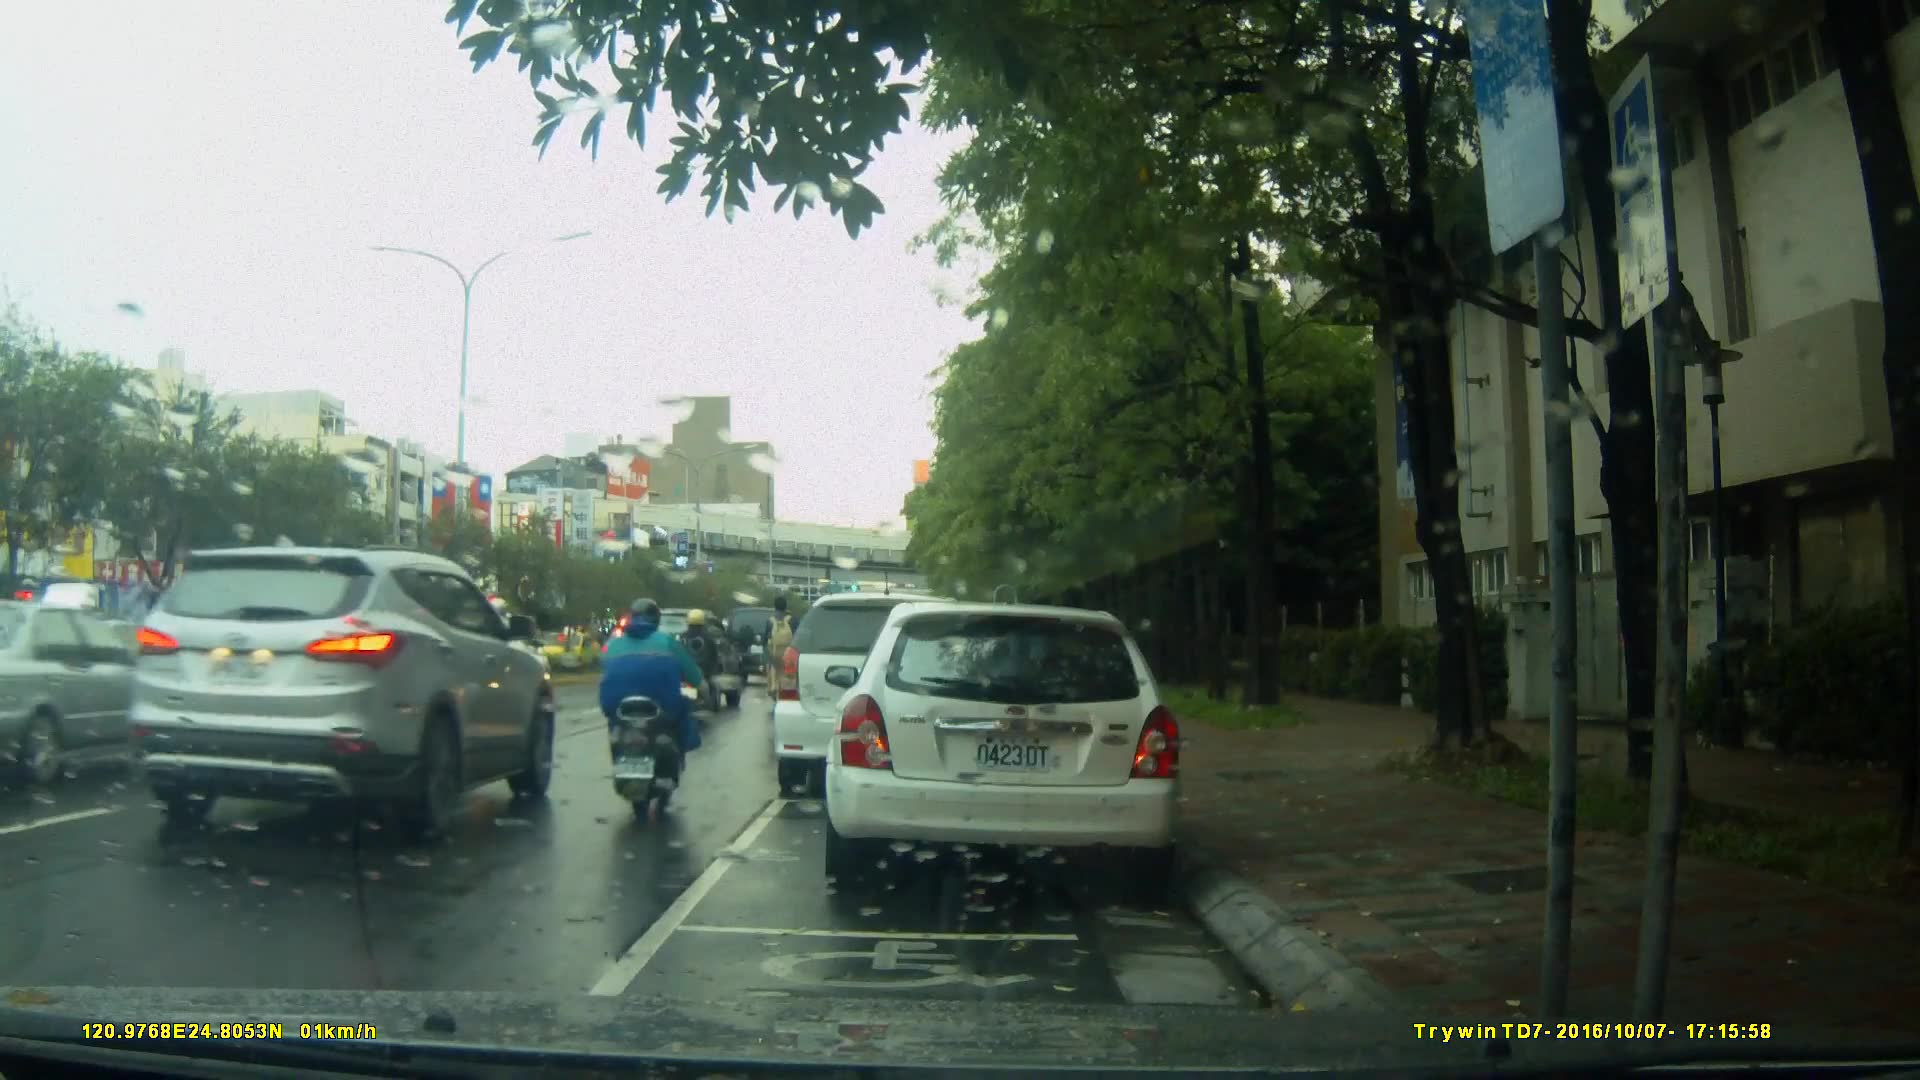rider: (599, 598, 703, 815), (670, 610, 735, 730), (762, 595, 803, 728)
vehicle: (134, 542, 560, 842), (822, 604, 1188, 883), (774, 595, 995, 802), (1, 600, 208, 788), (615, 596, 745, 702)
